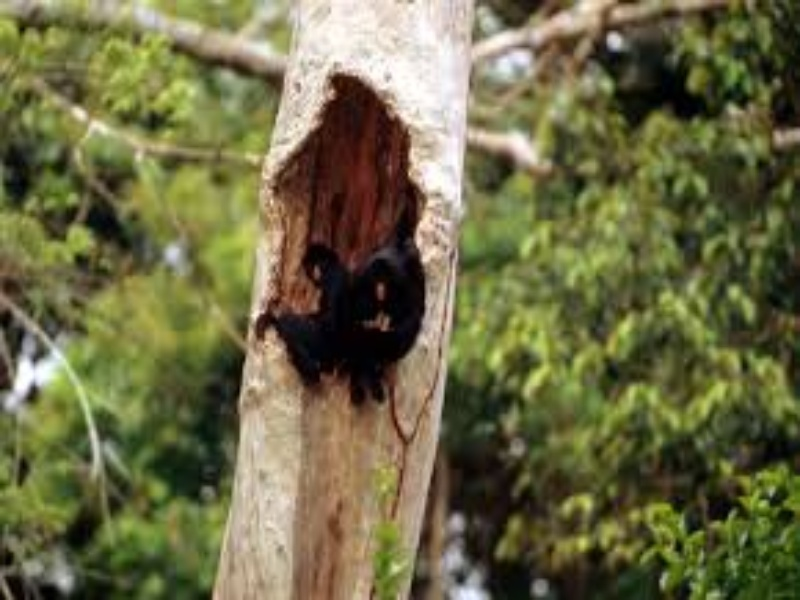monkey: (233, 231, 446, 411)
